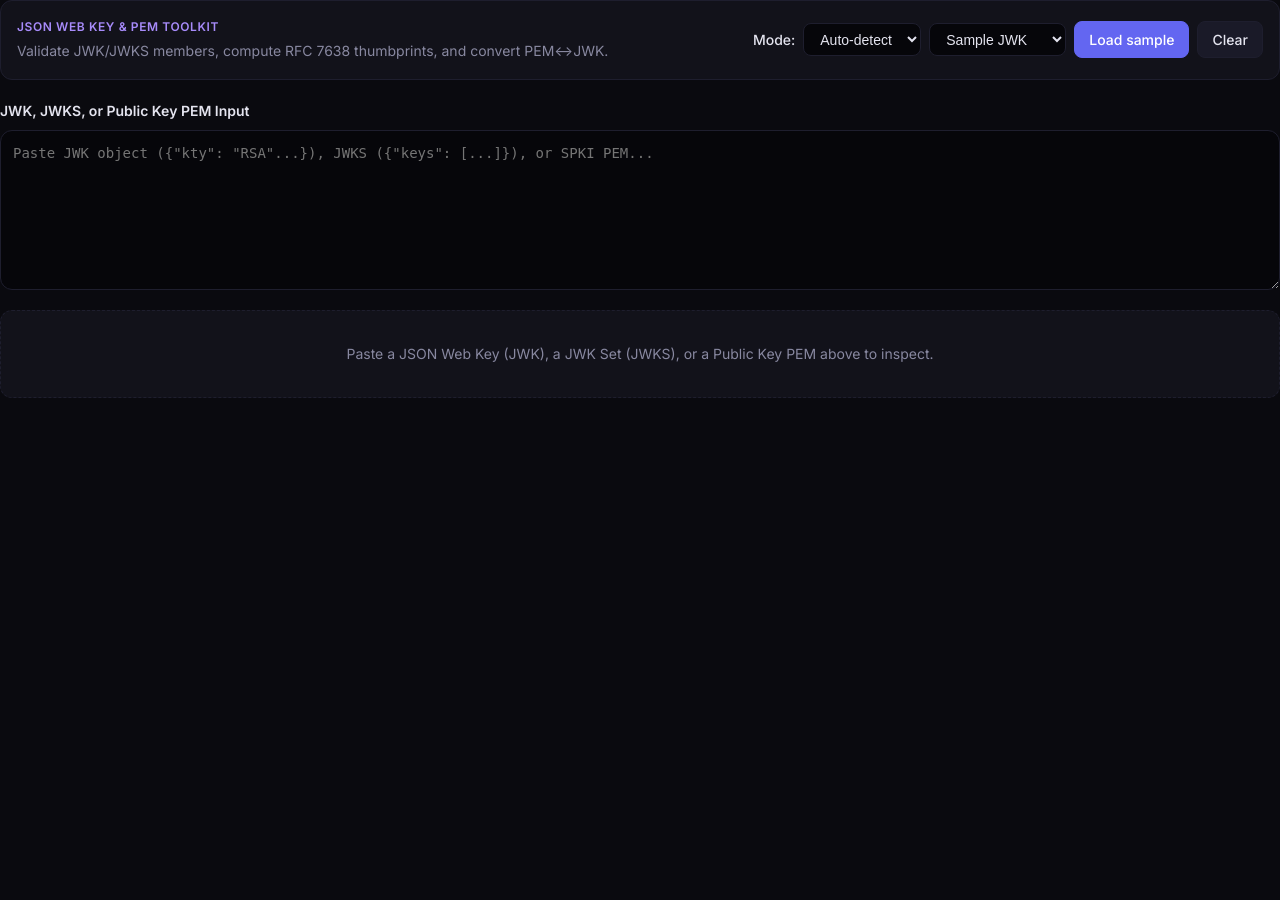
JwkInspectorTool Component › switches sample types to JWKS and renders multiple keys
The width and height of the screenshot is (1280, 900).
Select "Sample JWKS" in the dropdown named "Sample type selector" at (998, 40), box [929, 23, 1066, 56]
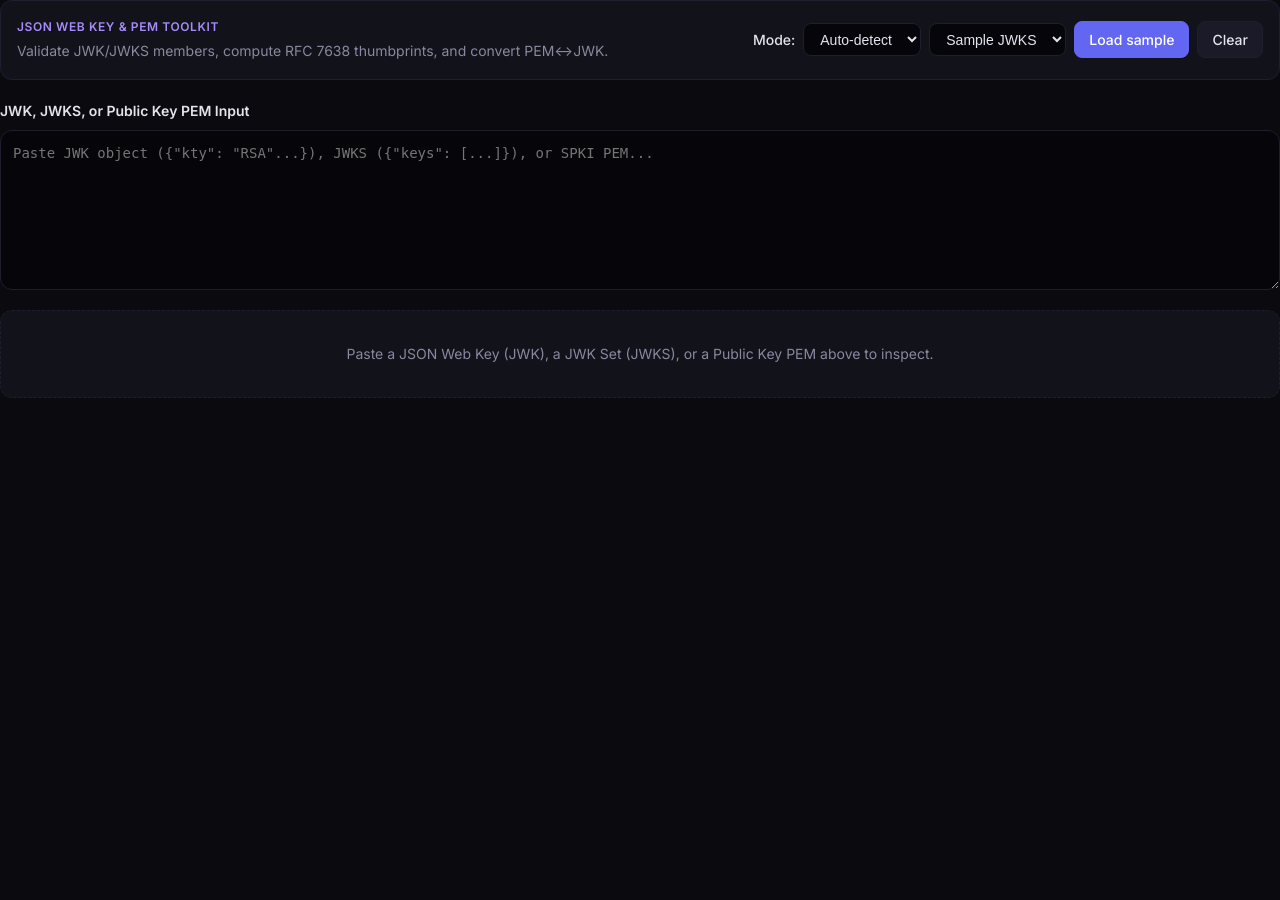
Click the button "Load sample" at (1132, 40), box [1074, 21, 1190, 58]
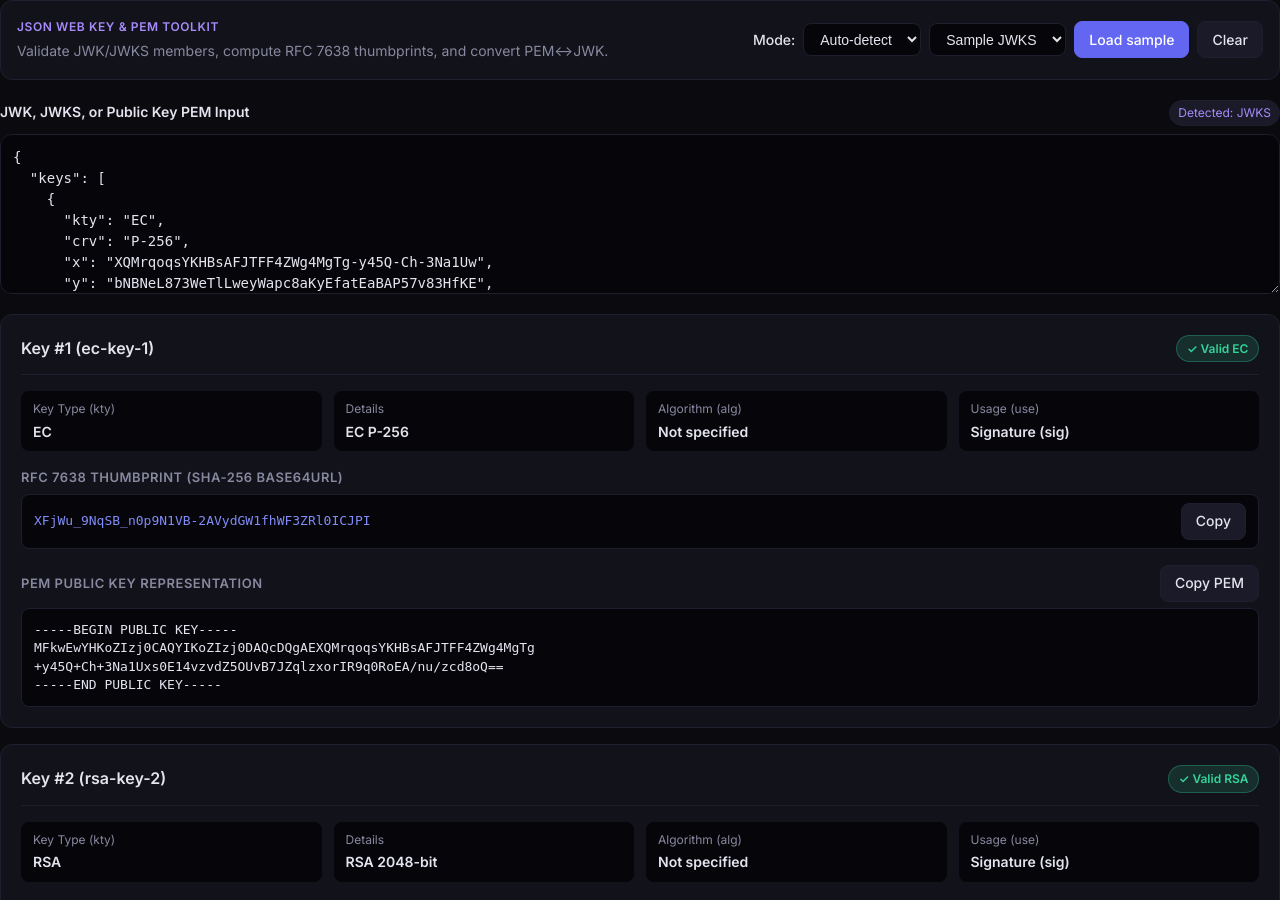
Expected: the heading "Key #1 (ec-key-1)" is shown, [21, 336, 154, 361]
Expected: the heading "Key #2 (rsa-key-2)" is shown, [21, 766, 166, 792]
